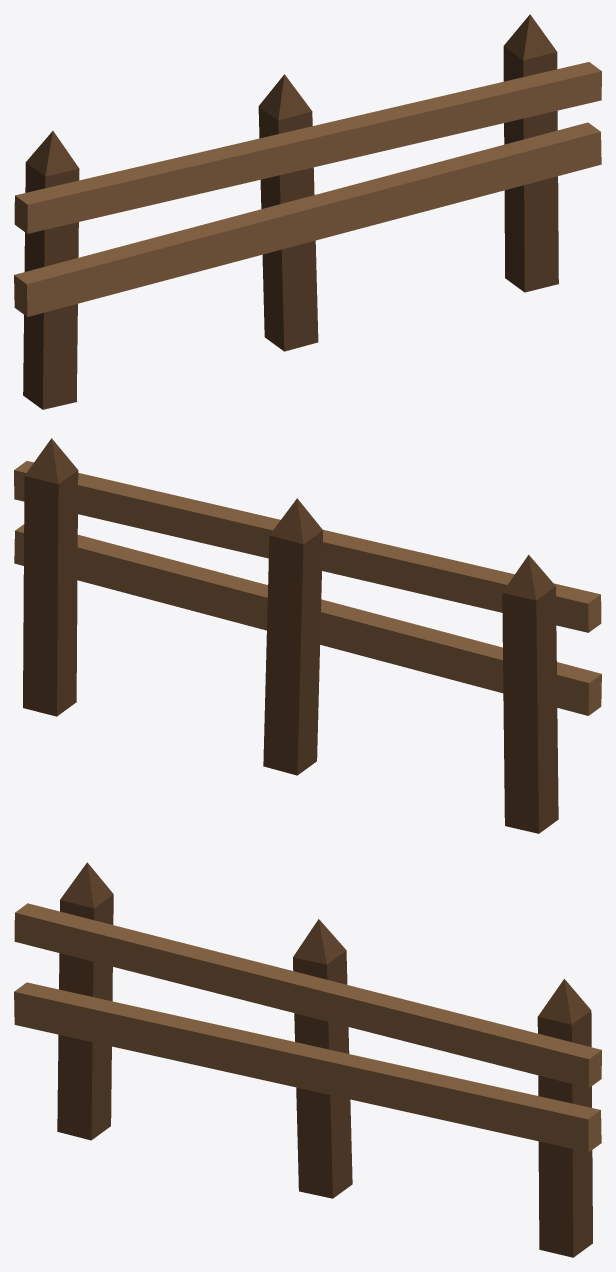
File: deco_fence.glb
3 views of the same model, one above another, from view 1: azimuth 30°, elevation 25°; view 2: azimuth 150°, elevation 25°; view 3: azimuth 330°, elevation 25° (orthographic).
Parts seen in each view (by area): view 1: deco_fence_mesh; view 2: deco_fence_mesh; view 3: deco_fence_mesh.
Part boxes in pixels (x1,y1,x2,y2): deco_fence_mesh: (14, 14, 601, 409); deco_fence_mesh: (14, 438, 601, 833); deco_fence_mesh: (14, 862, 601, 1257).
Size of the model in its own units: 0.3105 by 0.1382 by 0.0312.
